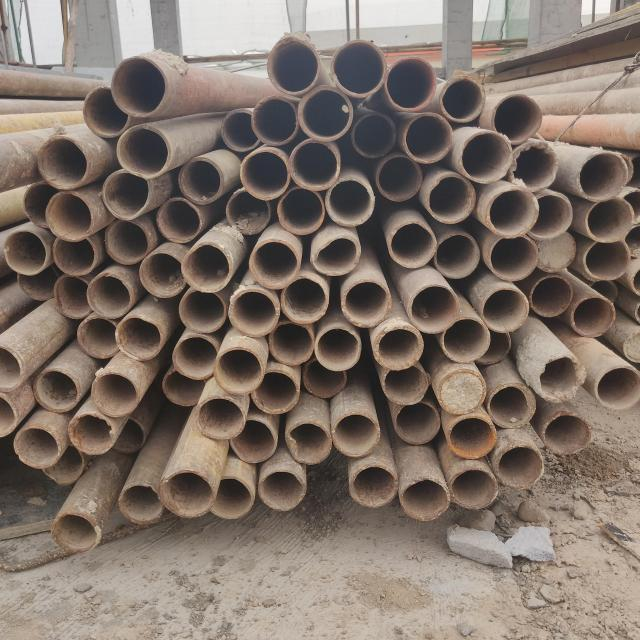pipe: (110, 55, 168, 116), (332, 39, 389, 97), (115, 125, 172, 180), (298, 88, 354, 143), (159, 468, 215, 520), (268, 36, 320, 90), (181, 244, 235, 294), (39, 136, 89, 188), (100, 170, 152, 220), (250, 238, 300, 290), (492, 93, 543, 143), (576, 152, 627, 202), (486, 190, 537, 240), (457, 132, 509, 181), (228, 290, 281, 338), (388, 55, 435, 109), (240, 150, 290, 200), (405, 112, 455, 162), (80, 88, 131, 137), (45, 192, 94, 242), (290, 142, 339, 192), (375, 152, 424, 202), (202, 475, 255, 521), (325, 178, 375, 226), (441, 316, 491, 364), (511, 142, 559, 192), (532, 353, 582, 401), (388, 220, 436, 269), (409, 286, 457, 334), (428, 174, 476, 222), (342, 279, 391, 326), (251, 95, 297, 145), (176, 287, 230, 329), (177, 158, 225, 205), (489, 236, 539, 281), (480, 288, 530, 333), (9, 222, 49, 278), (105, 217, 151, 265), (85, 272, 131, 320), (279, 277, 327, 323), (50, 512, 100, 556), (228, 417, 275, 463), (277, 189, 323, 236), (214, 347, 262, 392), (311, 235, 361, 278), (435, 233, 481, 279), (171, 334, 218, 379), (395, 401, 442, 446), (377, 324, 424, 369), (588, 197, 635, 242), (250, 369, 298, 413), (527, 194, 571, 242), (400, 477, 450, 519), (540, 414, 590, 456), (75, 314, 121, 359), (92, 372, 138, 417), (226, 189, 272, 234), (332, 412, 377, 458), (498, 444, 544, 489), (140, 251, 184, 298), (197, 396, 244, 440), (489, 385, 536, 429), (584, 236, 631, 280), (436, 370, 484, 413), (592, 363, 634, 412), (448, 468, 498, 509), (286, 421, 331, 466), (156, 198, 201, 243), (352, 113, 398, 157), (440, 76, 484, 122), (50, 232, 97, 275), (13, 427, 60, 470), (350, 465, 400, 505), (115, 316, 161, 359), (448, 416, 497, 456), (270, 322, 314, 366), (51, 274, 94, 319), (316, 327, 361, 370), (534, 228, 577, 273), (118, 483, 164, 525), (258, 472, 306, 512), (34, 369, 78, 412), (42, 442, 84, 486), (303, 357, 347, 399), (530, 274, 574, 316), (570, 298, 615, 338), (70, 414, 114, 454), (220, 107, 260, 151), (162, 368, 207, 406), (24, 184, 61, 230), (384, 367, 430, 404), (469, 332, 512, 366), (111, 416, 145, 456), (21, 265, 56, 302), (584, 278, 618, 308), (620, 328, 640, 361), (625, 221, 640, 257), (625, 187, 640, 221), (631, 265, 640, 293)
